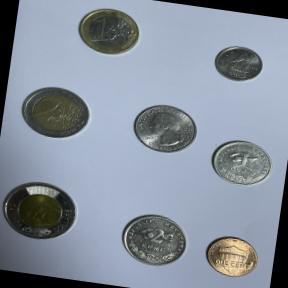1 Euro: (70, 0, 146, 61)
2 Euro: (15, 79, 97, 144)
Canda-10cent-: (207, 40, 270, 88)
Canda-2Dollar-: (0, 173, 85, 245)
Croatia-2Kune-: (115, 208, 192, 272)
US-1cent-: (198, 230, 266, 284)
US-25cent-: (124, 97, 206, 159)
